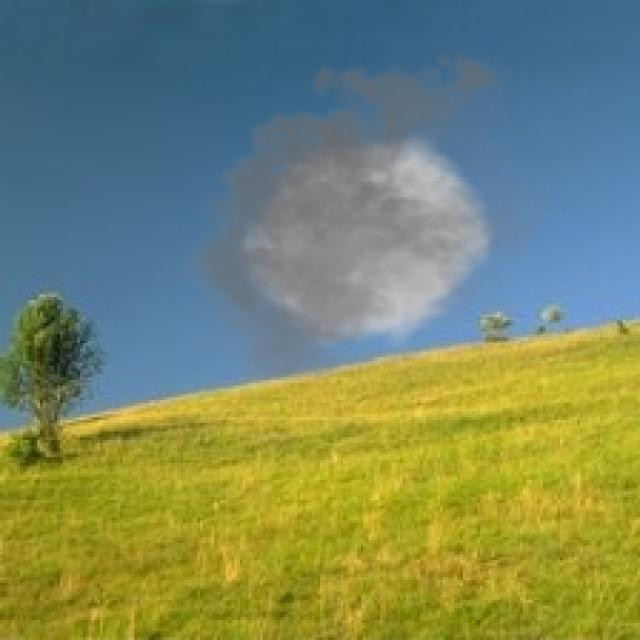smoke: (168, 43, 563, 397)
